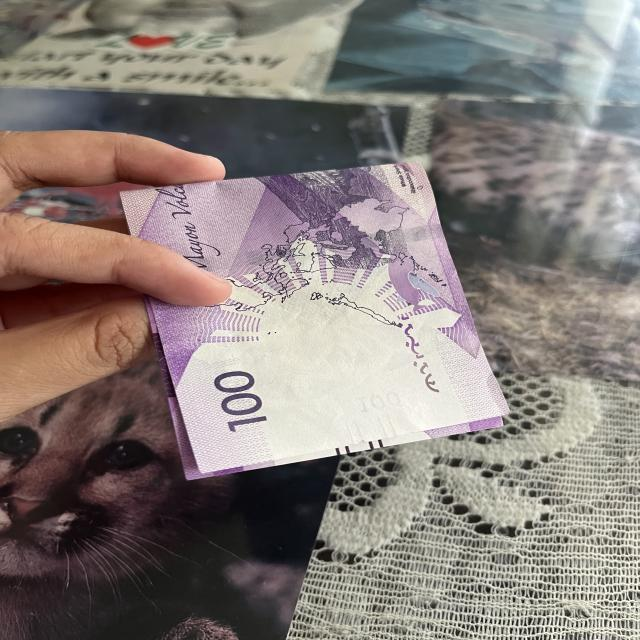value_watermark: (353, 390, 405, 414)
